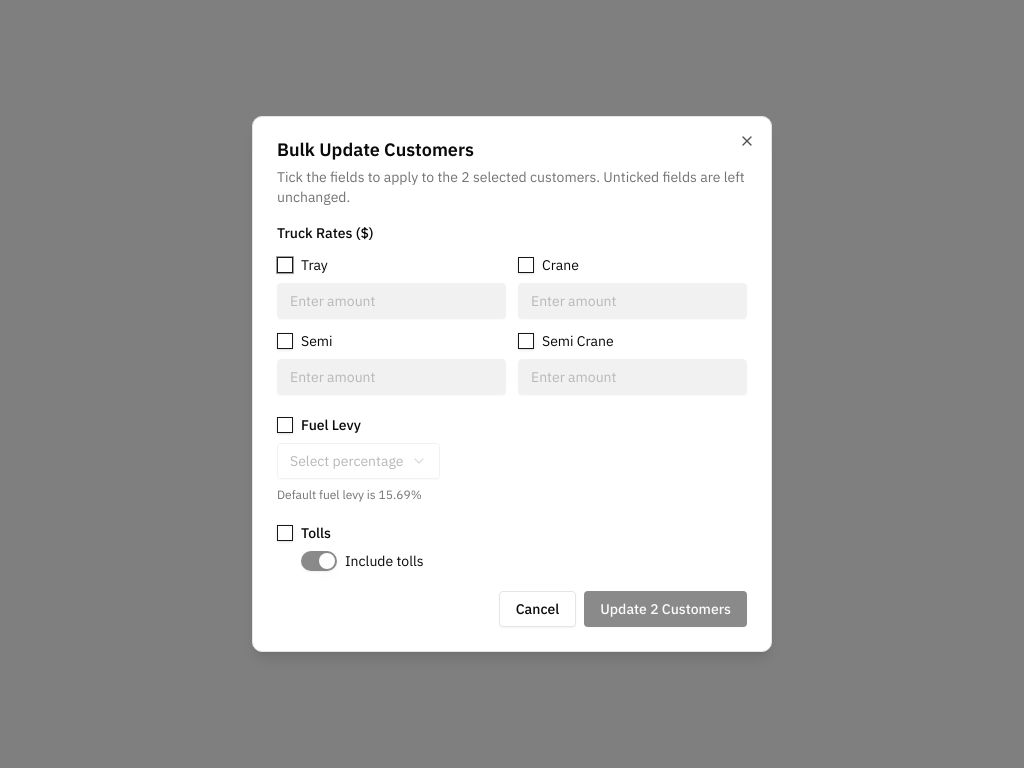
Test: CustomerBulkUpdateDialog › shows the server error and keeps the dialog open on failure
The width and height of the screenshot is (1024, 768).
Click the 6th checkbox named "Tolls". click: (285,533)
box: left=277, top=525, right=293, bottom=541
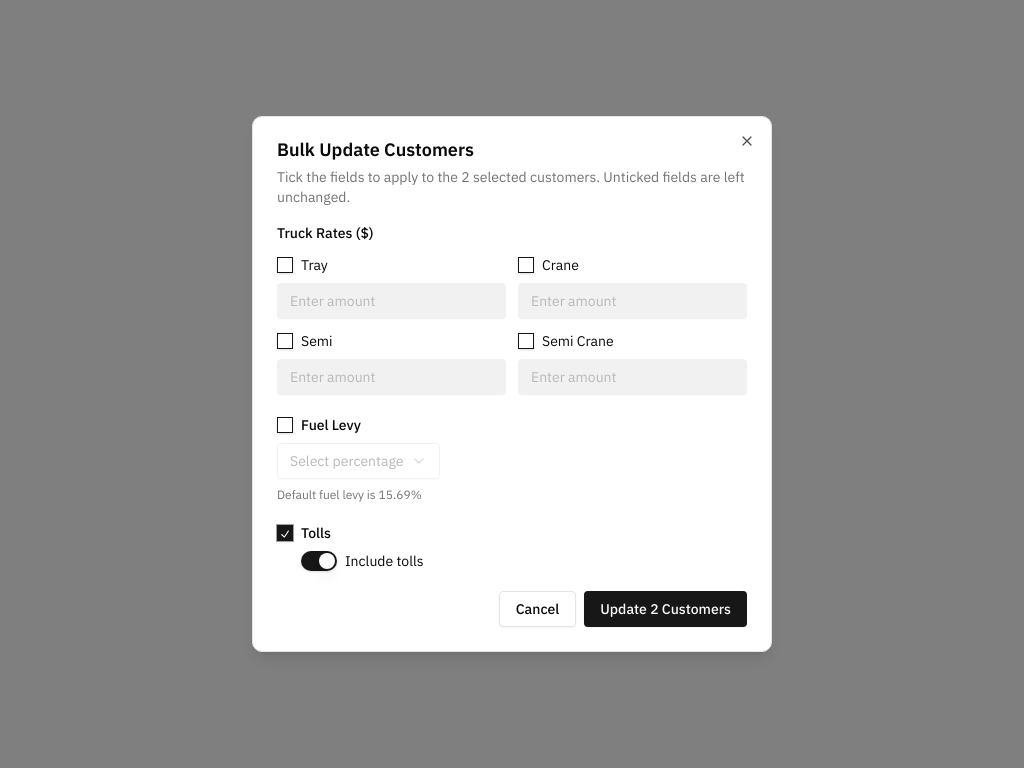
Click the button "Update 2 Customers". click: (666,609)
box: left=584, top=591, right=747, bottom=627
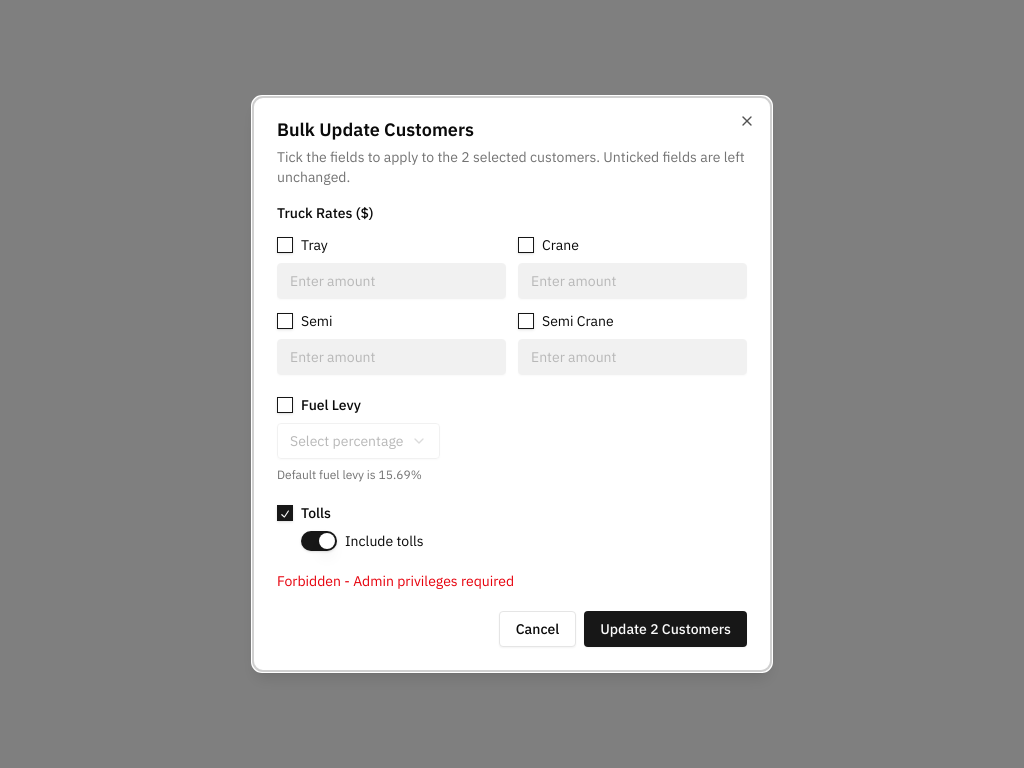
expect the message reads "Forbidden - Admin privileges required": met, box left=277, top=572, right=514, bottom=590
